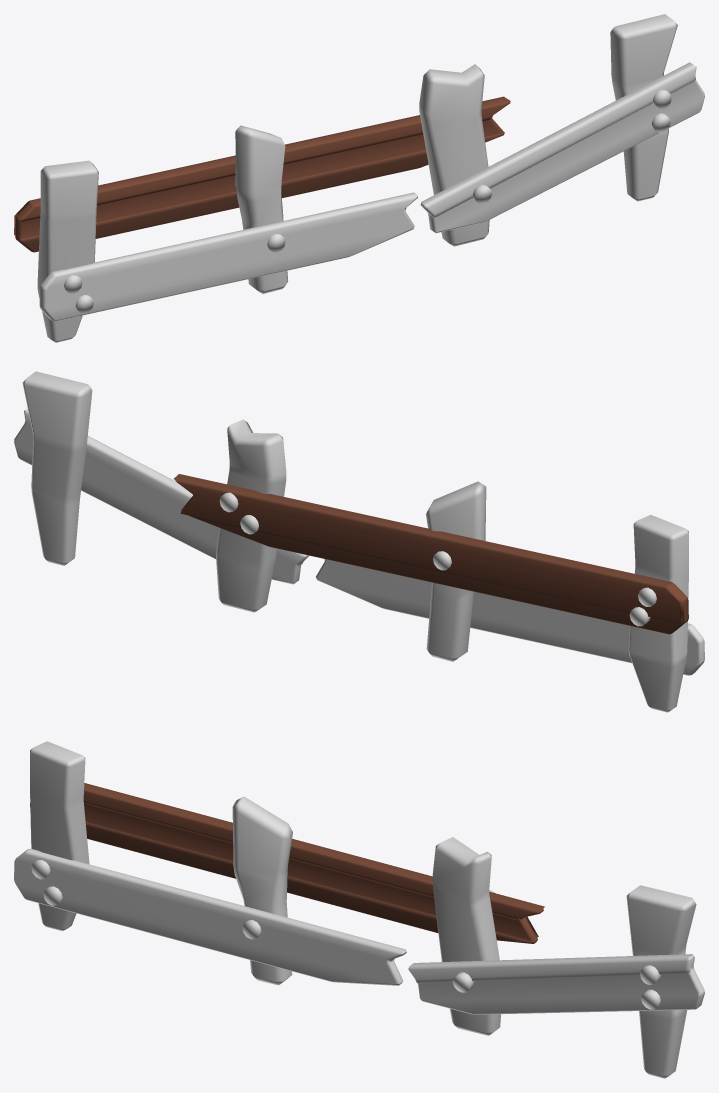
The model's file is Fence_Mesh.fbx.
3 renders of one model, top to bottom at view 1: azimuth 30°, elevation 25°; view 2: azimuth 150°, elevation 25°; view 3: azimuth 330°, elevation 25°, orthographic. The views are drawn at different scales.
Visible parts, largest first — view 1: Fence5, Fence3, Fence7, Fence, Fence2, Fence8, Fence6; view 2: Fence3, Fence5, Fence8, Fence7, Fence, Fence2, Fence6; view 3: Fence5, Fence3, Fence7, Fence, Fence2, Fence8, Fence6.
Boxes of the visible parts, x1,y1,x2,y2 form: Fence5: (39,192,417,321); Fence3: (14,96,510,252); Fence7: (420,62,704,233); Fence: (419,64,489,246); Fence2: (37,160,98,342); Fence8: (610,14,677,201); Fence6: (235,125,287,293); Fence3: (173,474,688,634); Fence5: (316,559,704,675); Fence8: (22,371,92,565); Fence7: (14,408,308,584); Fence: (216,419,286,612); Fence2: (628,514,688,712); Fence6: (426,481,486,661); Fence5: (14,849,406,985); Fence3: (30,783,544,943); Fence7: (408,954,704,1014); Fence: (432,837,500,1035); Fence2: (30,741,89,930); Fence8: (626,885,696,1078); Fence6: (232,796,292,985).
Size of the model in its own units: 219 by 77.74 by 881.
